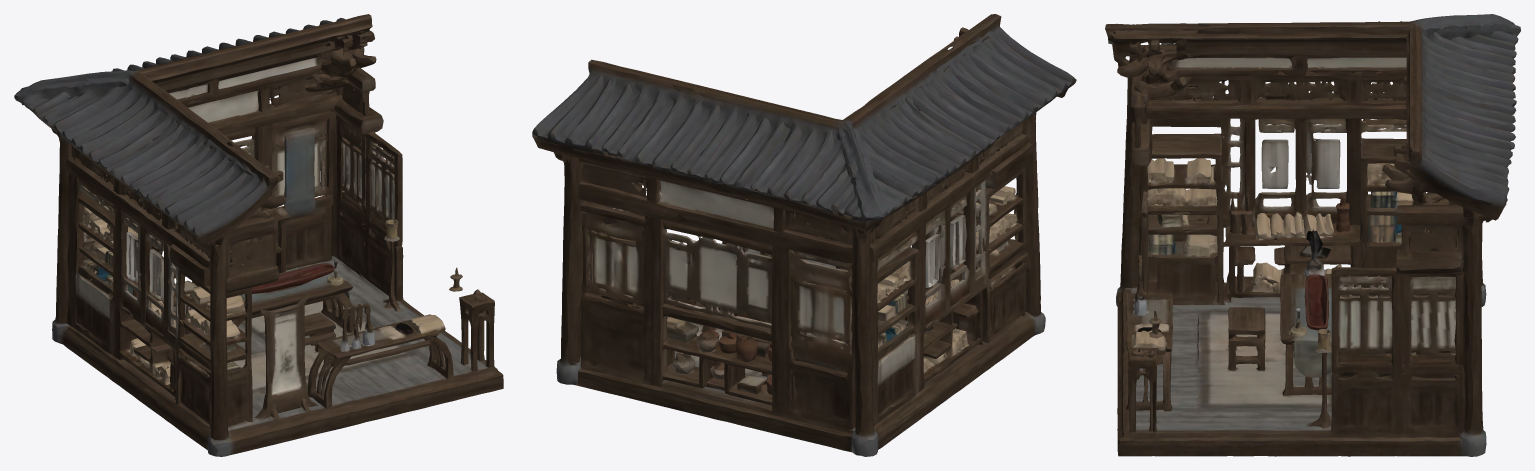
The model's file is interior_diorama.glb.
3 renders of one model, left to right at view 1: azimuth 30°, elevation 25°; view 2: azimuth 150°, elevation 25°; view 3: azimuth 270°, elevation 25°, orthographic. The views are drawn at different scales.
Visible parts, largest first — view 1: geometry_0; view 2: geometry_0; view 3: geometry_0.
Boxes of the visible parts, box(x1,y1,x2,y2) form: geometry_0: box(14, 14, 503, 456); geometry_0: box(532, 14, 1076, 456); geometry_0: box(1105, 14, 1520, 456).
Bounding box in the file's own units: 0.45 × 0.3639 × 0.4463.
1 material, 1 textured.
